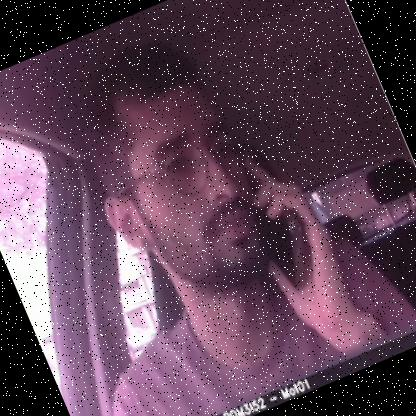phone: (232, 149, 335, 308)
